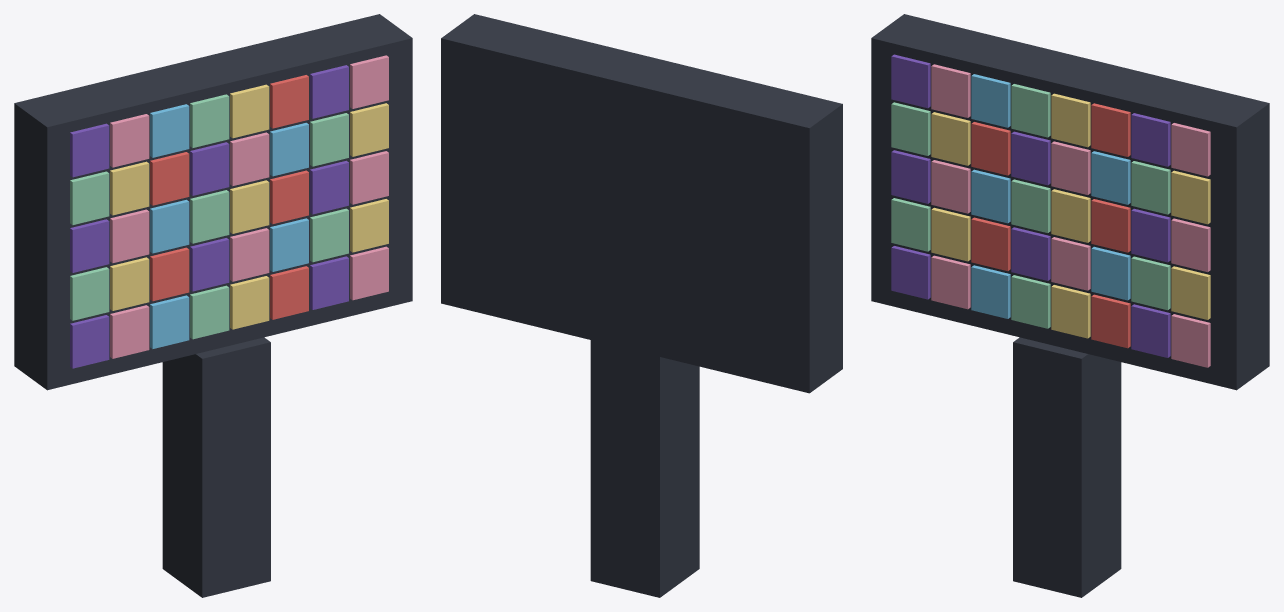
File: billboard_digital.glb
3 views of the same model, side by side, from view 1: azimuth 30°, elevation 25°; view 2: azimuth 150°, elevation 25°; view 3: azimuth 330°, elevation 25° (orthographic).
Visible parts, largest first — view 1: billboard_digital; view 2: billboard_digital; view 3: billboard_digital.
Boxes of the visible parts, left/top/right/bottom form: billboard_digital: left=14, top=14, right=412, bottom=597; billboard_digital: left=441, top=14, right=842, bottom=597; billboard_digital: left=871, top=14, right=1269, bottom=597.
Size of the model in its own units: 0.32 by 0.42 by 0.06.
